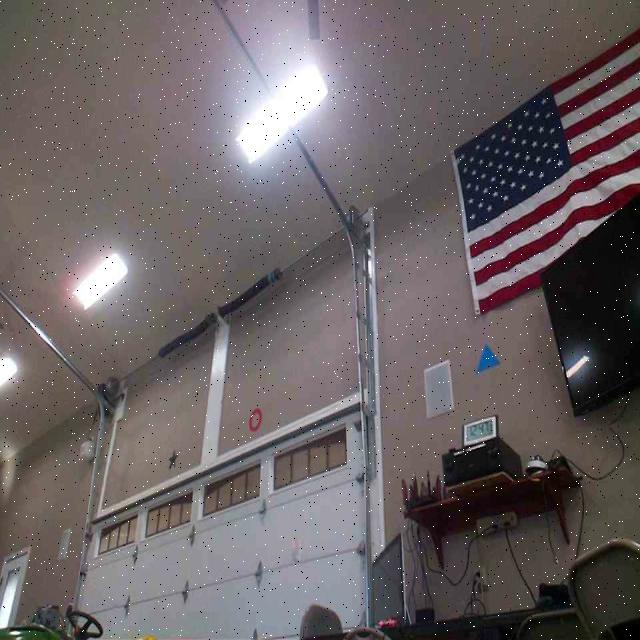ring_red: (248, 406, 261, 431)
star_black: (166, 447, 179, 469)
triangle_blue: (476, 342, 500, 374)
